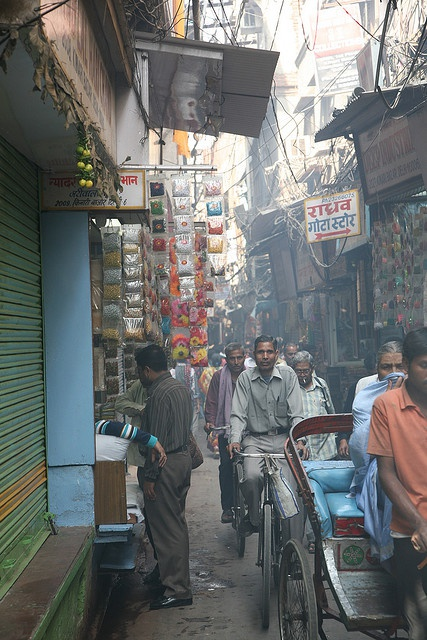non-vehicle: (232, 448, 303, 634), (209, 424, 246, 557)
